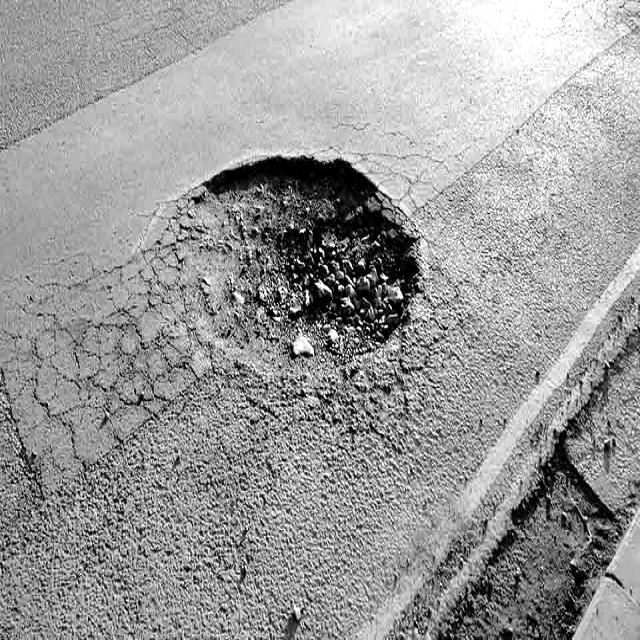pathole: (152, 157, 418, 400)
